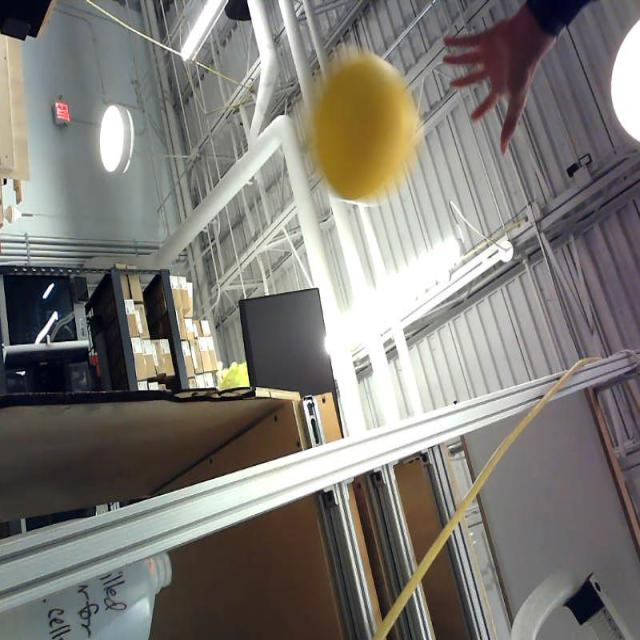Fuel: (316, 55, 406, 199)
